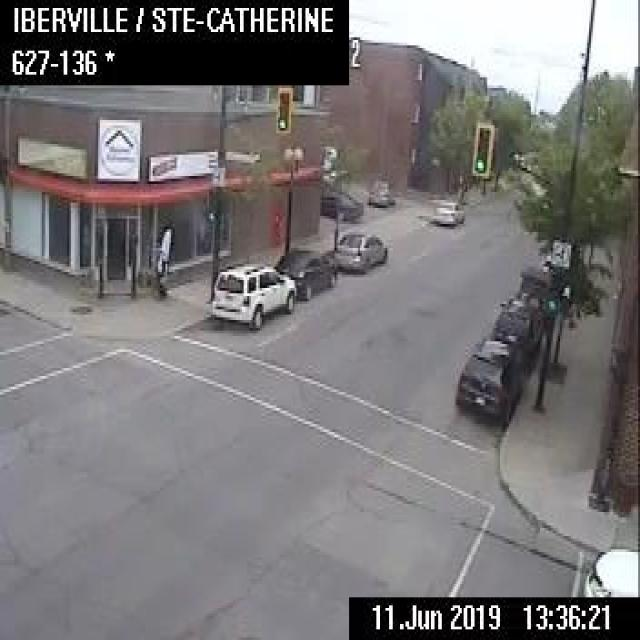vehicle: (205, 257, 298, 329), (454, 335, 528, 424), (269, 243, 338, 300), (489, 292, 541, 361), (580, 544, 638, 595), (332, 227, 387, 273), (515, 263, 554, 310), (319, 181, 362, 223), (429, 197, 464, 227), (366, 176, 394, 207)
